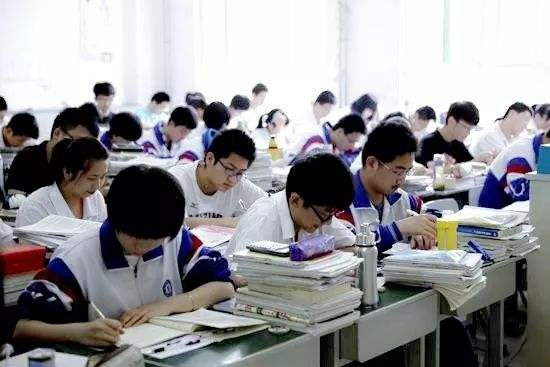person: (76, 164, 204, 311), (259, 155, 363, 257), (31, 133, 113, 248), (352, 121, 435, 228), (173, 133, 256, 222), (142, 102, 206, 162), (431, 101, 481, 172), (297, 113, 368, 159), (43, 107, 100, 149), (491, 96, 534, 150), (319, 110, 366, 157), (4, 106, 39, 152), (84, 78, 119, 119), (304, 85, 339, 122), (258, 107, 293, 143), (350, 86, 380, 125), (246, 83, 273, 113)
